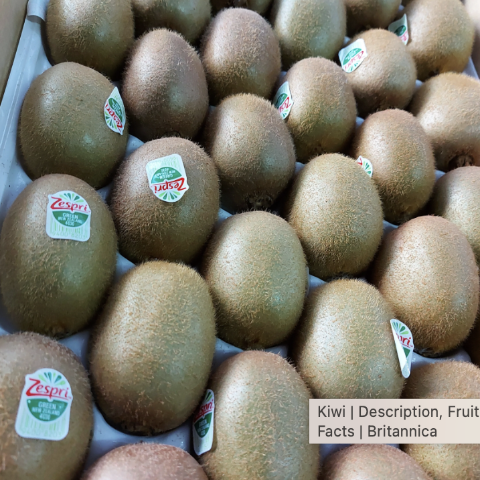kiwi: (76, 241, 227, 439), (288, 264, 417, 424), (6, 166, 126, 332), (180, 338, 320, 480), (369, 206, 480, 376), (281, 142, 389, 287), (112, 18, 215, 159), (120, 132, 219, 268), (343, 102, 437, 226), (268, 54, 366, 163), (209, 81, 300, 193)
